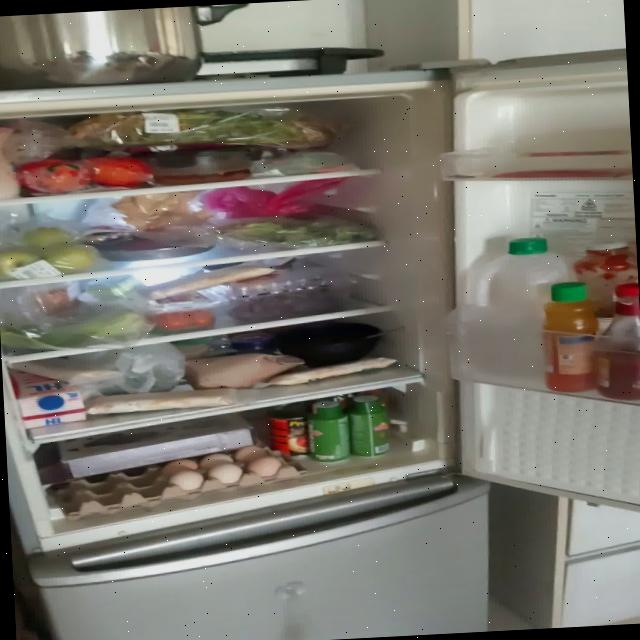apple: (0, 224, 101, 281)
egg: (52, 442, 309, 518)
leafy_greens: (67, 102, 337, 162), (220, 212, 380, 251)
orange: (17, 154, 154, 196)
tempeh: (138, 263, 276, 301), (268, 355, 398, 391), (94, 386, 236, 412)
unknown_bag: (200, 176, 350, 218)
